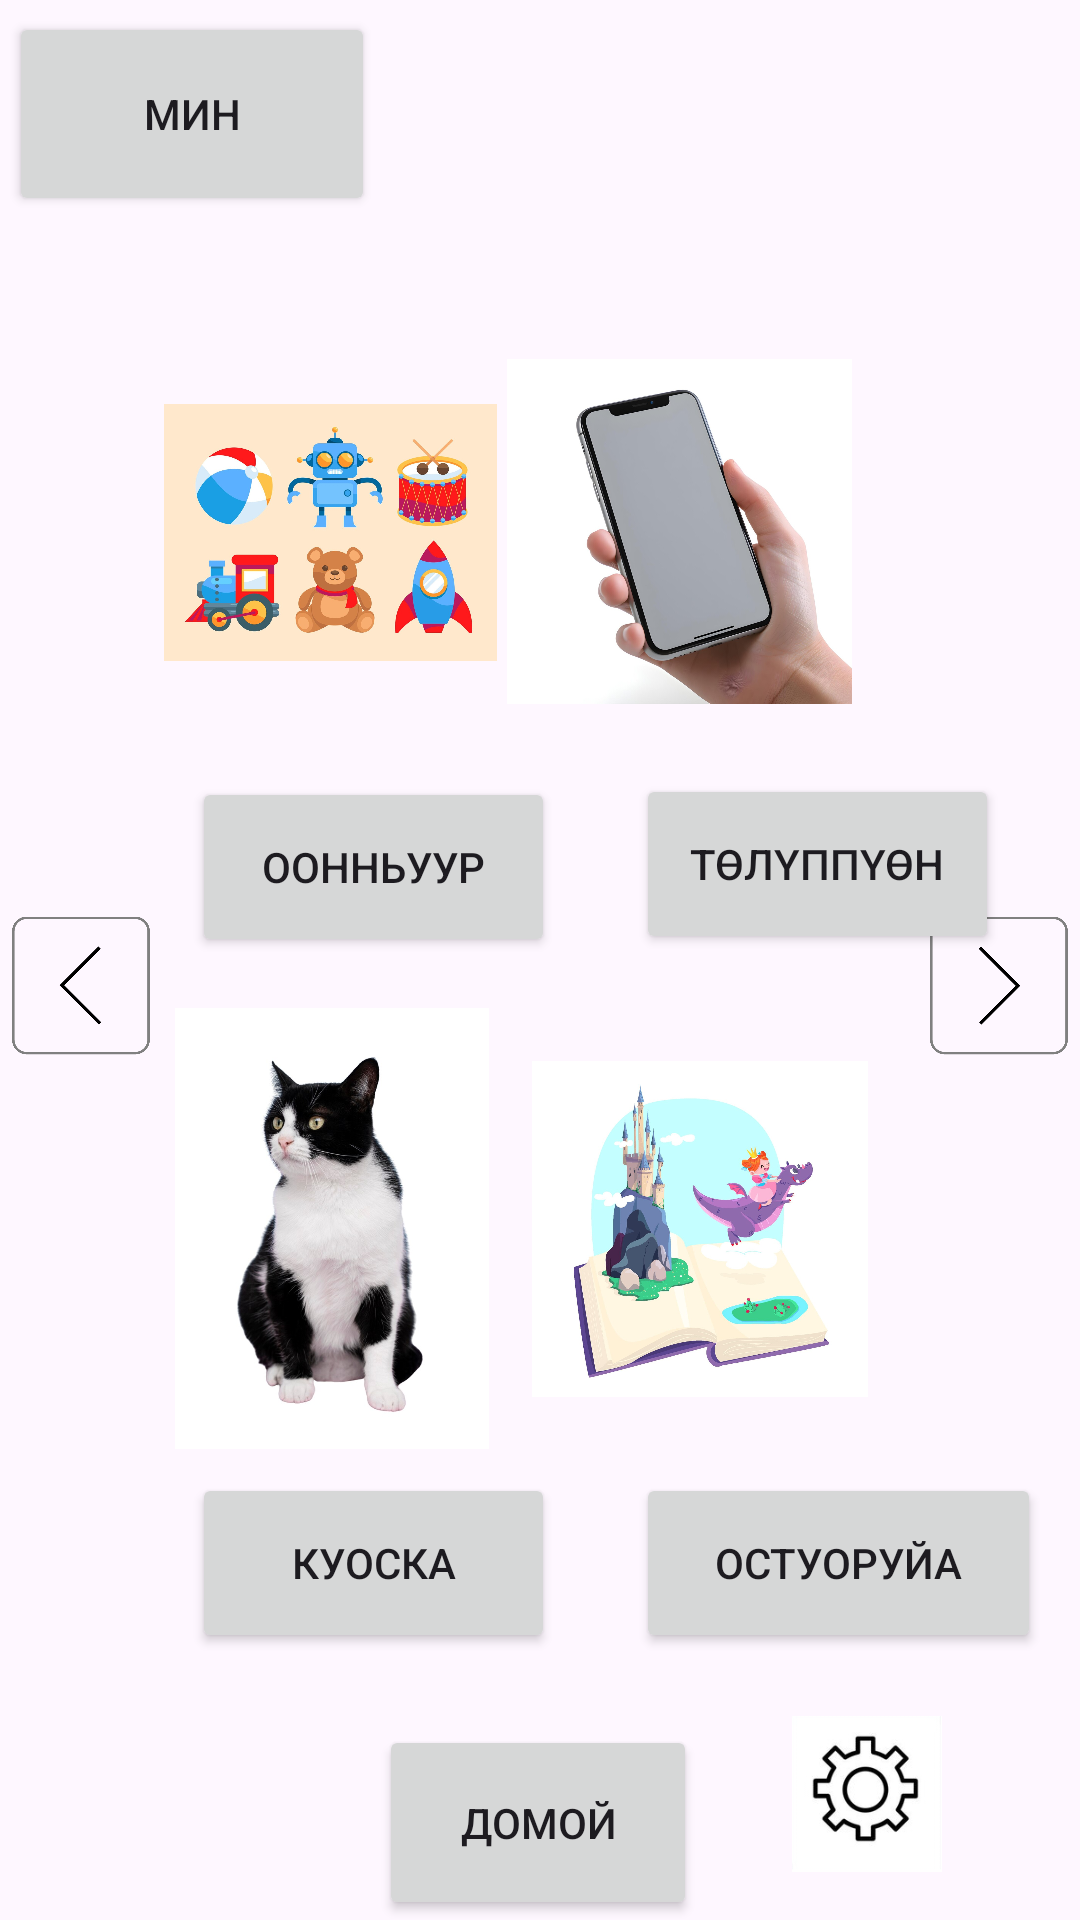

Point at icon controls on the screen. Image size 1080x1920, points as [x,y].
cat: [330,1234]
left: [81,986]
phone: [714,547]
right: [999,977]
settings: [865,1789]
toy: [330,532]
